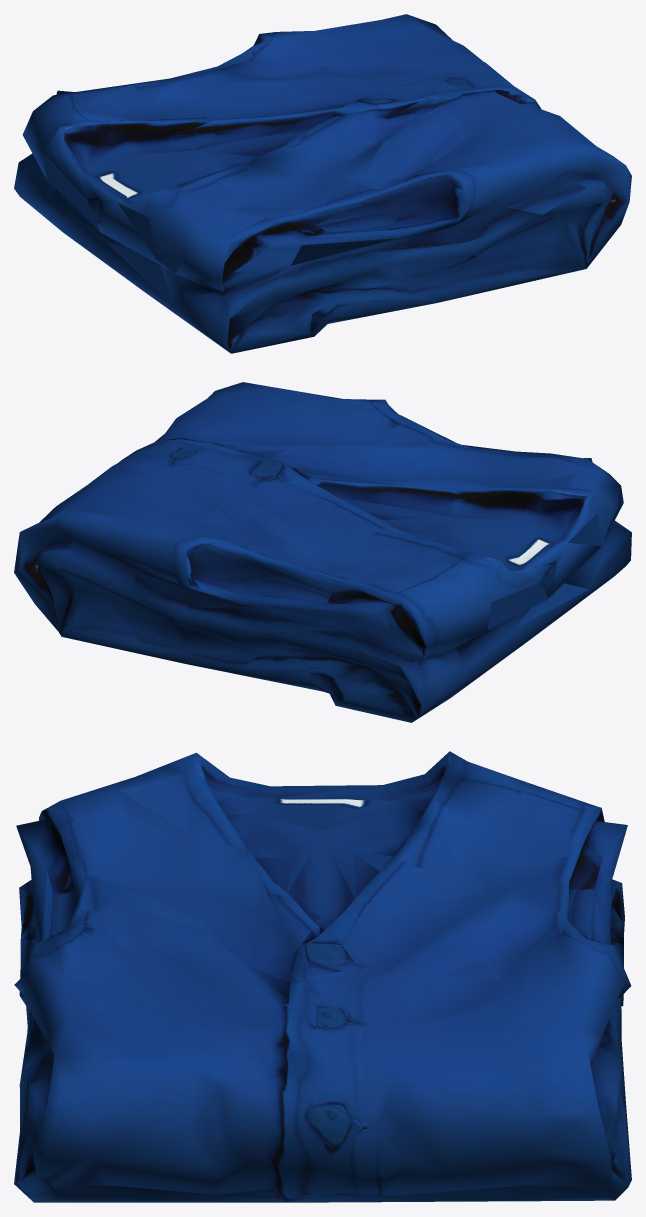
File: vet.fbx
3 renders of one model, top to bottom at view 1: azimuth 30°, elevation 25°; view 2: azimuth 150°, elevation 25°; view 3: azimuth 270°, elevation 25°, orthographic. The views are drawn at different scales.
Parts seen in each view (by area): view 1: tripo_node_fccf1959; view 2: tripo_node_fccf1959; view 3: tripo_node_fccf1959.
Part boxes in pixels (<box>): tripo_node_fccf1959: <box>14,14,631,353</box>; tripo_node_fccf1959: <box>14,382,631,722</box>; tripo_node_fccf1959: <box>14,751,631,1202</box>.
Bounding box in the file's own units: 99.88 × 27.56 × 84.18.
